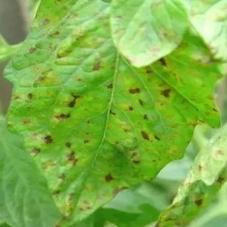Bacterial Spot: (3, 0, 222, 222)
